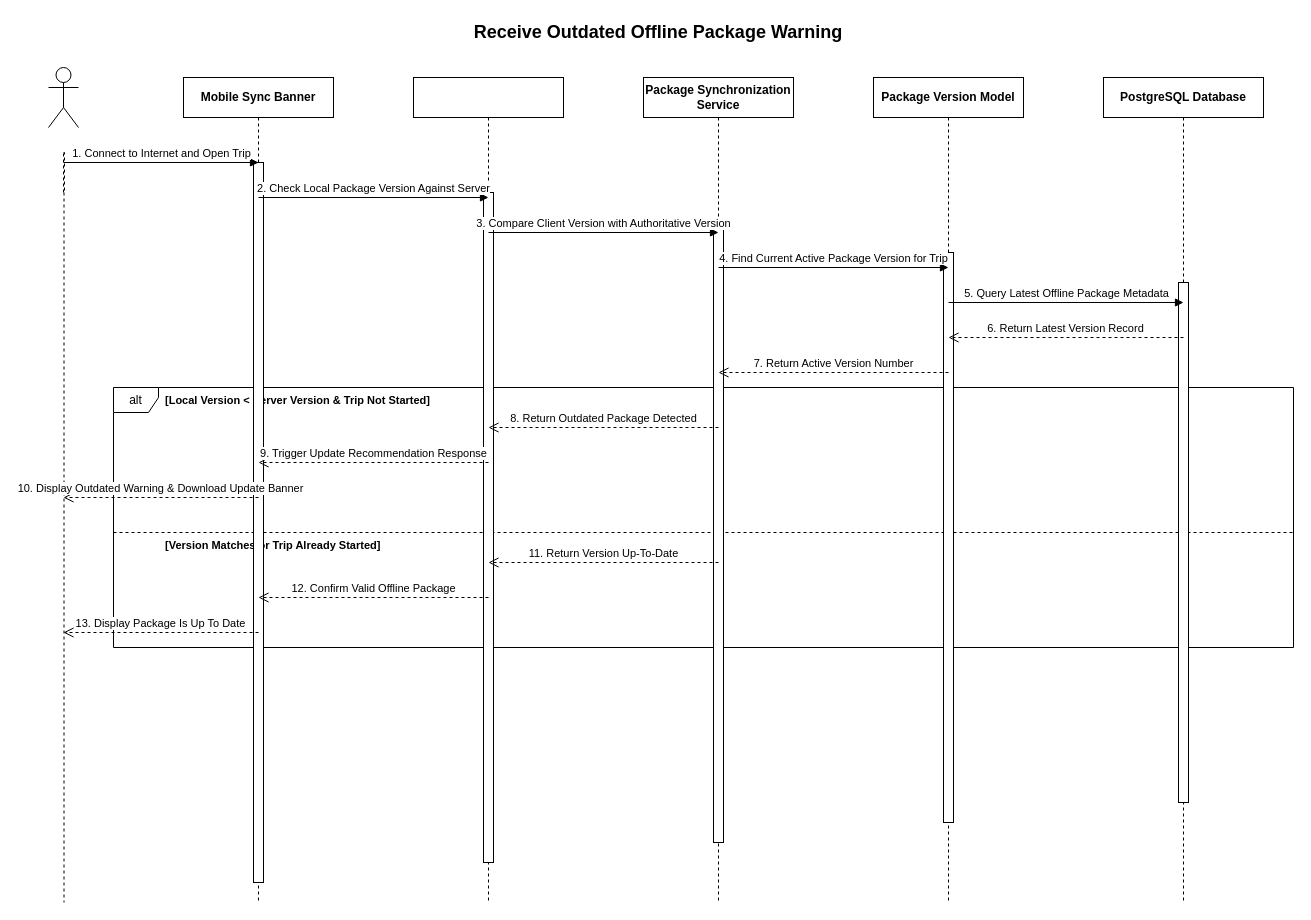
The diagram is 1311 pixels wide and 920 high, and some of its shapes have lost their labels. The shapes that lost their labels are listed below. From the top down, each one's centre as x and y in pixels, then its label:
At point (63, 97): "Camper".
At point (488, 489): "Package Version Controller".
